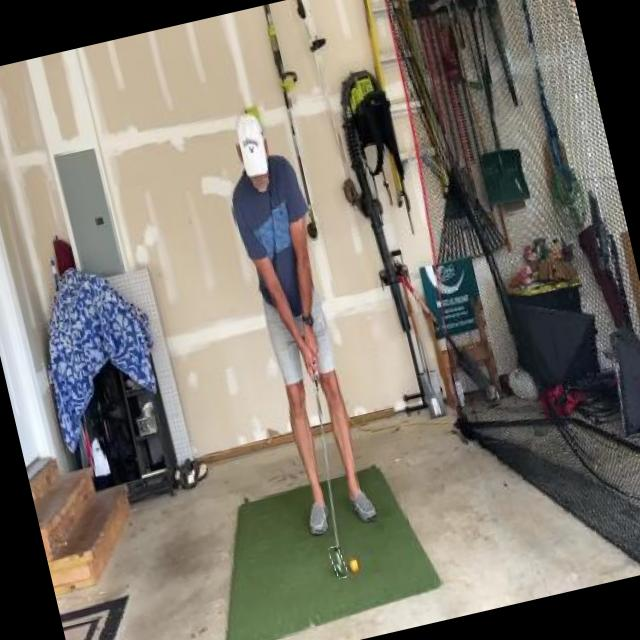club head: (328, 545, 348, 579)
